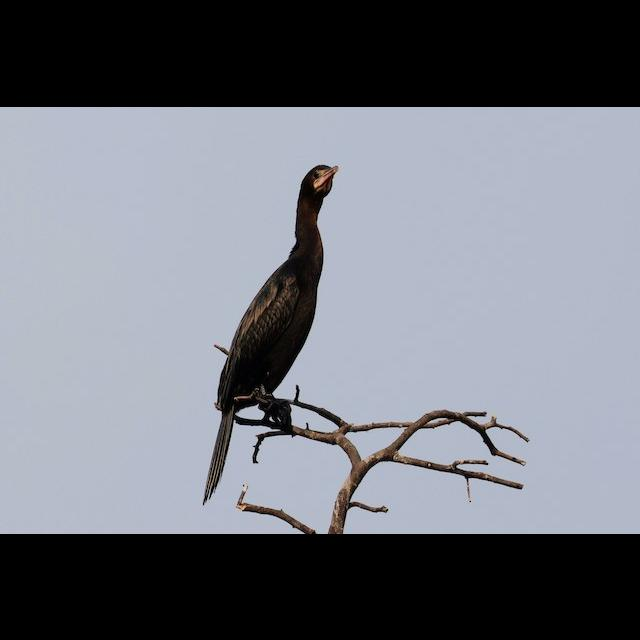cormorant: (199, 156, 345, 509)
